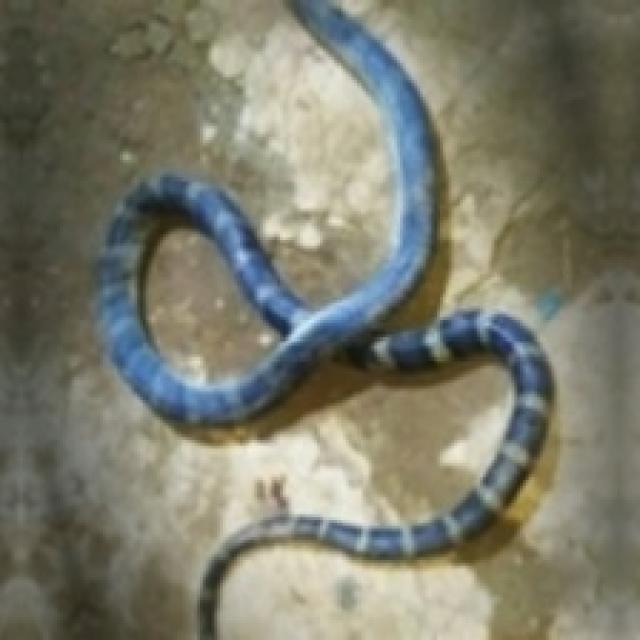king cobra: (57, 357, 509, 637), (111, 0, 389, 294), (349, 3, 574, 357), (220, 437, 569, 637), (146, 234, 263, 371)
